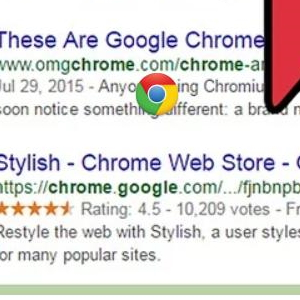chrome: (135, 72, 178, 116)
